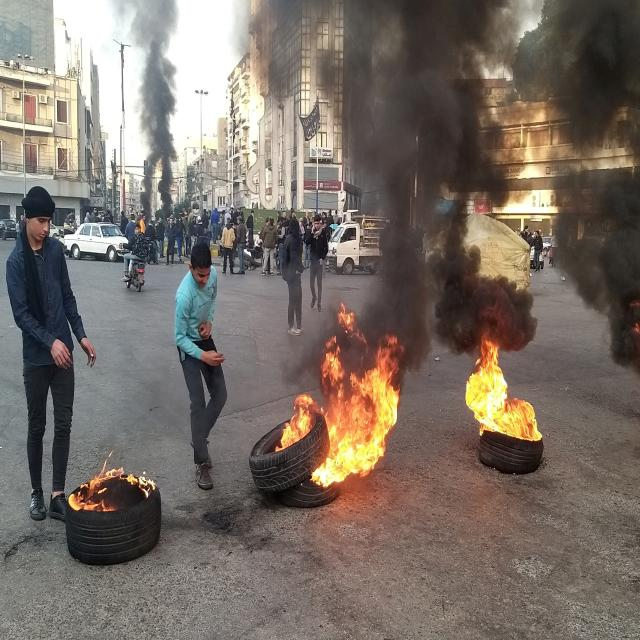fire: (309, 336, 402, 486), (465, 336, 543, 442), (69, 467, 155, 513), (274, 392, 318, 450)
